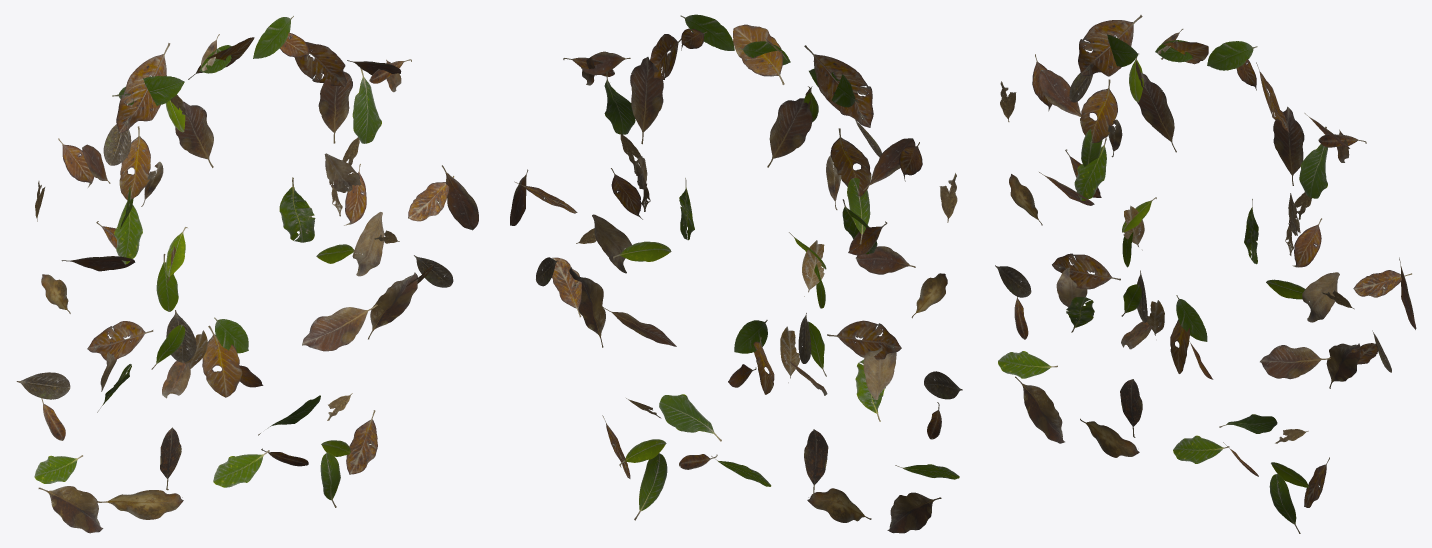
Rendered from Leaf_Pile_01_Var2_LOD1.fbx.
3 renders of one model, left to right at view 1: azimuth 30°, elevation 25°; view 2: azimuth 150°, elevation 25°; view 3: azimuth 330°, elevation 25°, orthographic. The views are drawn at different scales.
Parts seen in each view (by area): view 1: Var2_LOD1; view 2: Var2_LOD1; view 3: Var2_LOD1.
Part boxes in pixels (bbox=[...]): Var2_LOD1: bbox=[16, 16, 478, 533]; Var2_LOD1: bbox=[510, 14, 962, 533]; Var2_LOD1: bbox=[995, 15, 1416, 533].
Size of the model in its own units: 93.14 by 99.31 by 6.66.
